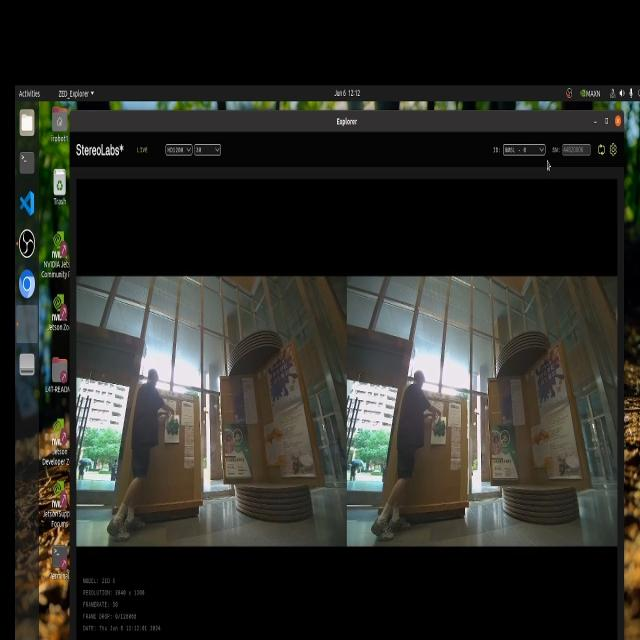green: (166, 416, 181, 432), (436, 418, 445, 443)
